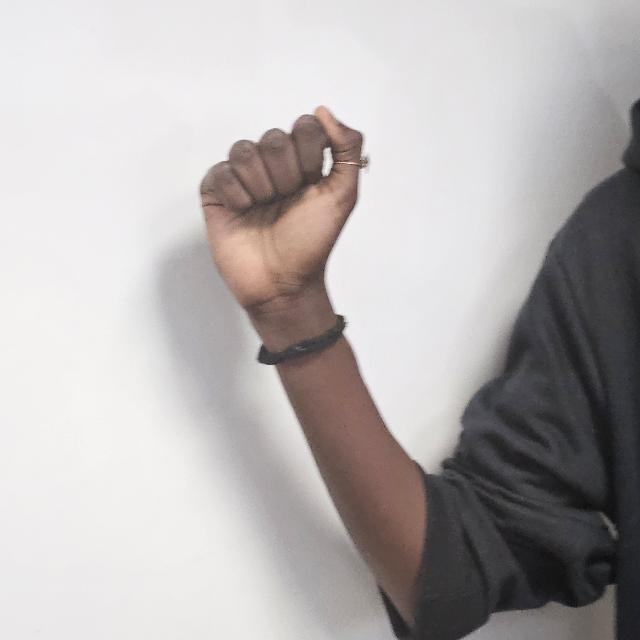Quadro: (196, 107, 364, 307)
